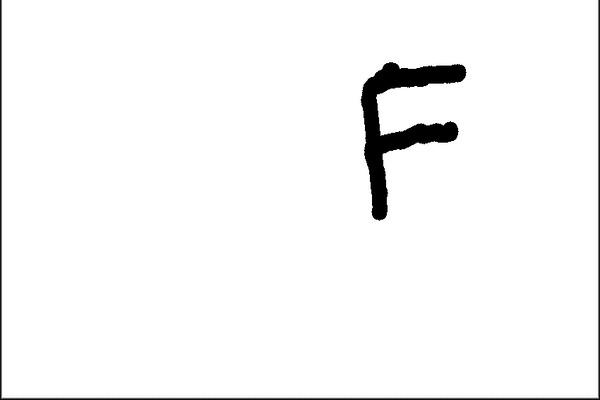F: (355, 60, 470, 223)
